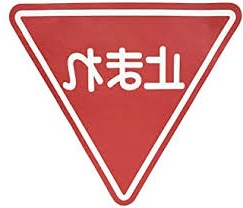Regulatory_sign_triangle: (4, 1, 243, 205)
